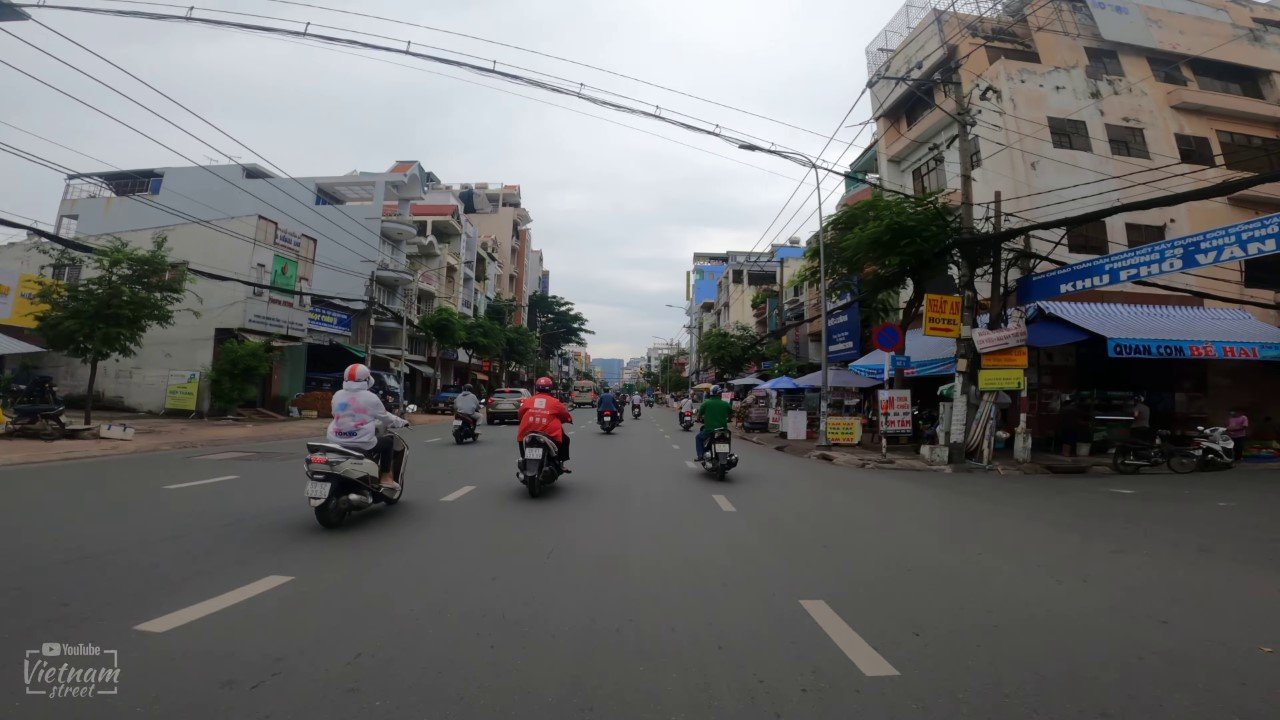cam_do_xe: (870, 320, 905, 356)
